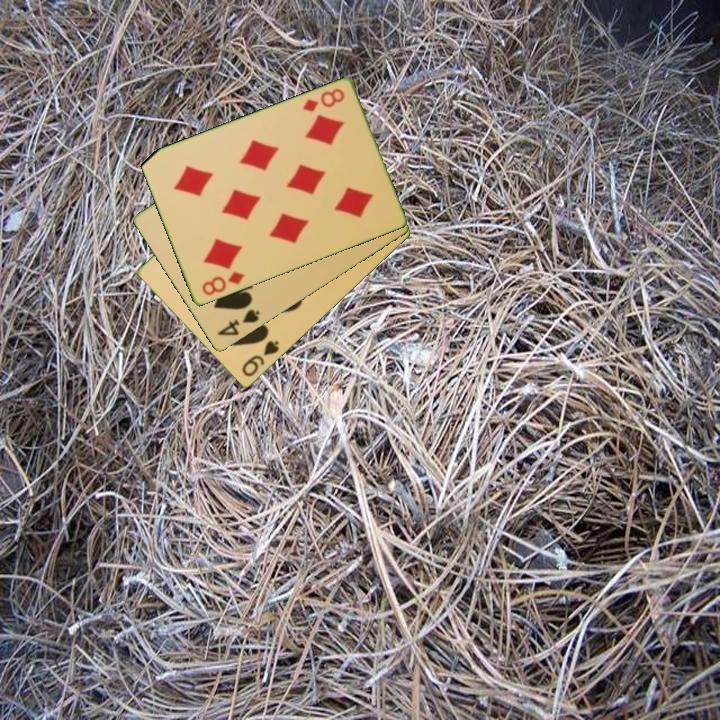4s: (213, 306, 263, 339)
8d: (198, 268, 247, 299), (299, 85, 347, 115)
9s: (238, 337, 282, 380)
